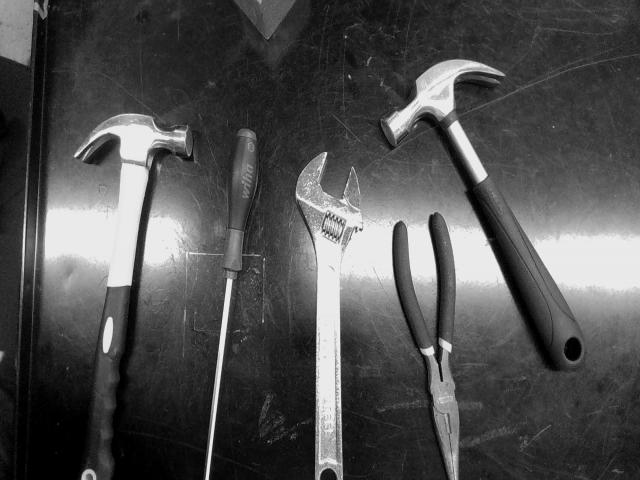Adjustable spanner: (296, 152, 362, 480)
Hammer: (381, 60, 585, 371), (75, 115, 192, 480)
Needle-nose pliers: (392, 213, 460, 480)
Screwdriver: (204, 128, 258, 480)
